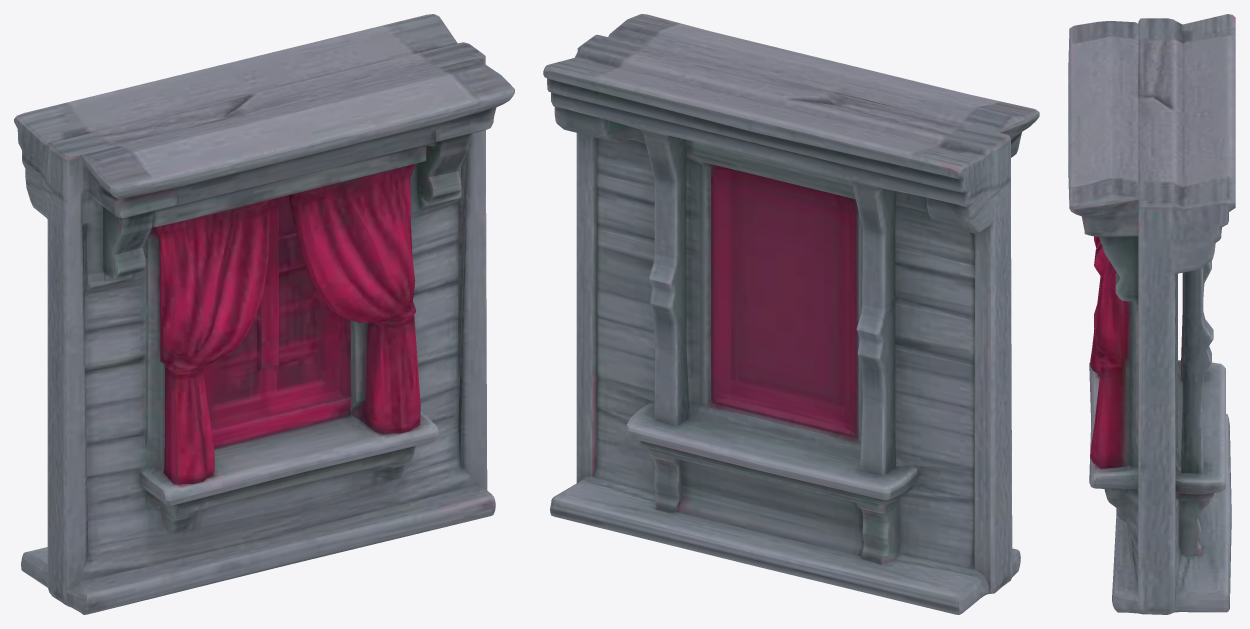
Rendered from wall_curtain_red.glb.
The picture shows the model from 3 angles, left to right: view 1: azimuth 30°, elevation 25°; view 2: azimuth 150°, elevation 25°; view 3: azimuth 270°, elevation 25°; orthographic projection. The views are drawn at different scales.
Size of the model in its own units: 1.84 by 1.91 by 0.6928.
1 material, 1 textured.
